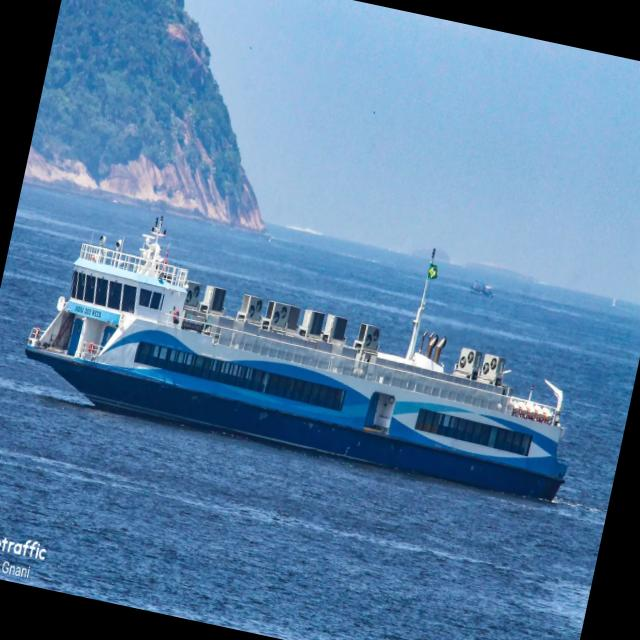Passenger: (25, 216, 566, 500)
